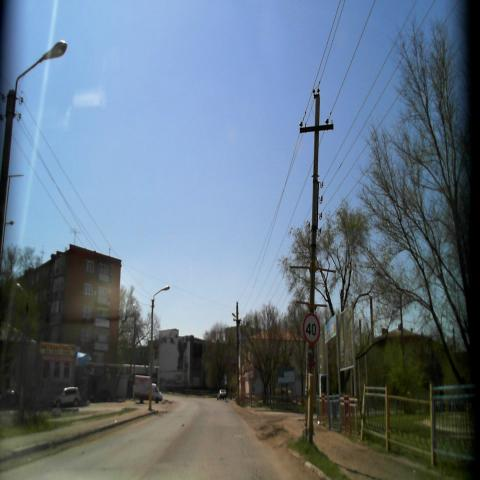3_24: (303, 313, 321, 344)
